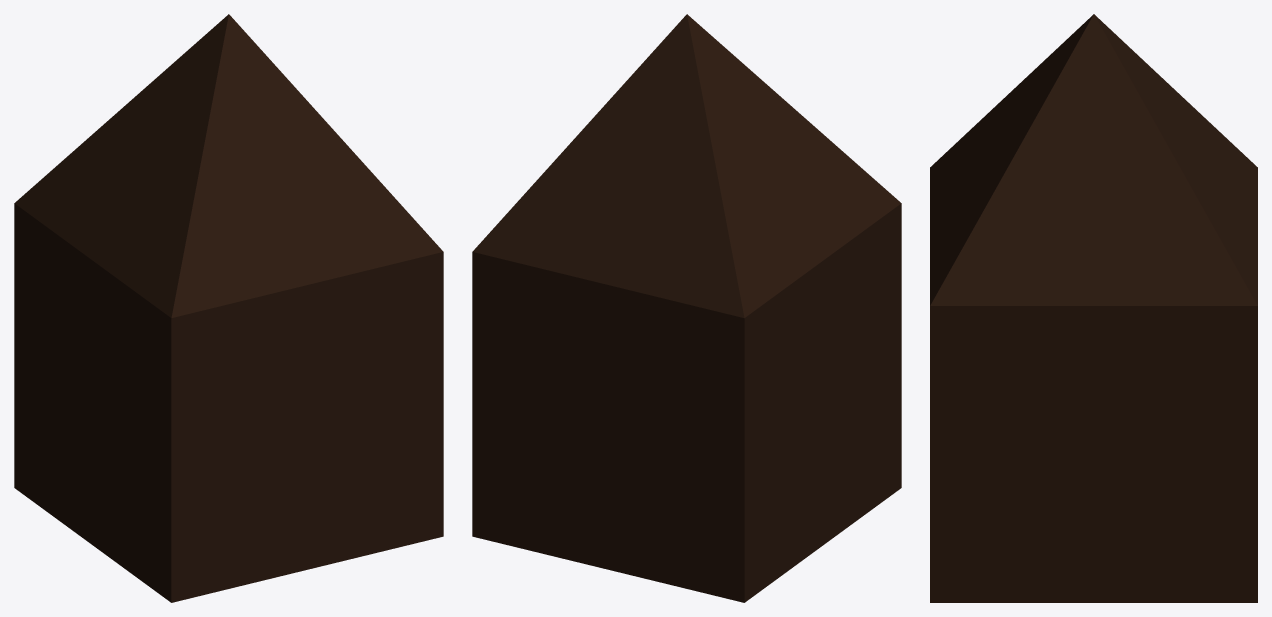
Rendered from Mountain_tile.fbx.
3 renders of one model, left to right at view 1: azimuth 30°, elevation 25°; view 2: azimuth 150°, elevation 25°; view 3: azimuth 270°, elevation 25°, orthographic. The views are drawn at different scales.
Parts seen in each view (by area): view 1: Cube; view 2: Cube; view 3: Cube.
Boxes of the visible parts, <box> form: Cube: <box>14,14,443,602</box>; Cube: <box>472,14,901,602</box>; Cube: <box>930,14,1257,602</box>.
Size of the model in its own units: 200 by 350 by 200.
